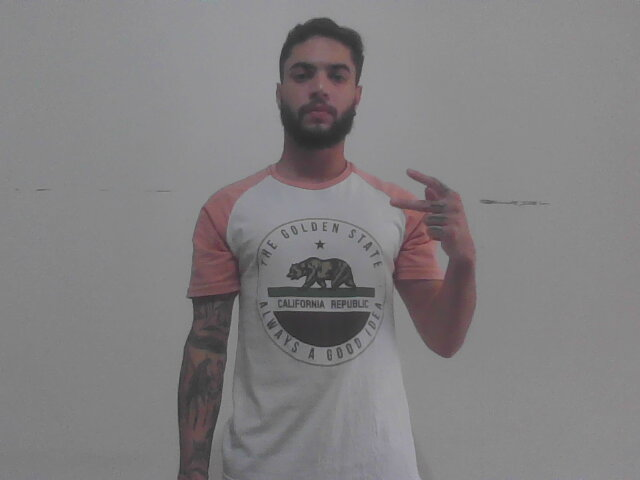p: (379, 163, 480, 266)
